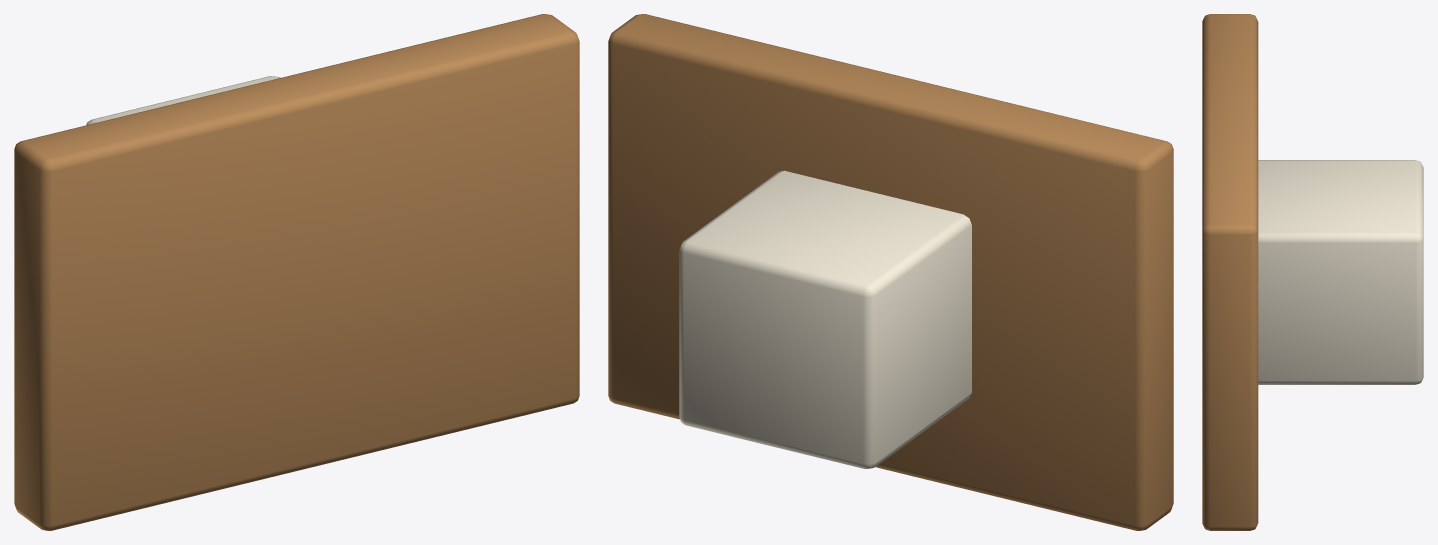
Rendered from equipment_delivery_dock.glb.
3 views of the same model, side by side, from view 1: azimuth 30°, elevation 25°; view 2: azimuth 150°, elevation 25°; view 3: azimuth 270°, elevation 25° (orthographic). The views are drawn at different scales.
Parts seen in each view (by area): view 1: Dock, Crate; view 2: Dock, Crate; view 3: Crate, Dock.
Part boxes in pixels (left/top/right/bottom): Dock: left=14, top=14, right=579, bottom=530; Crate: left=86, top=76, right=280, bottom=125; Dock: left=608, top=14, right=1173, bottom=530; Crate: left=679, top=170, right=971, bottom=468; Crate: left=1258, top=160, right=1423, bottom=384; Dock: left=1202, top=14, right=1258, bottom=530.
Size of the model in its own units: 2.2 by 1.45 by 0.95.
